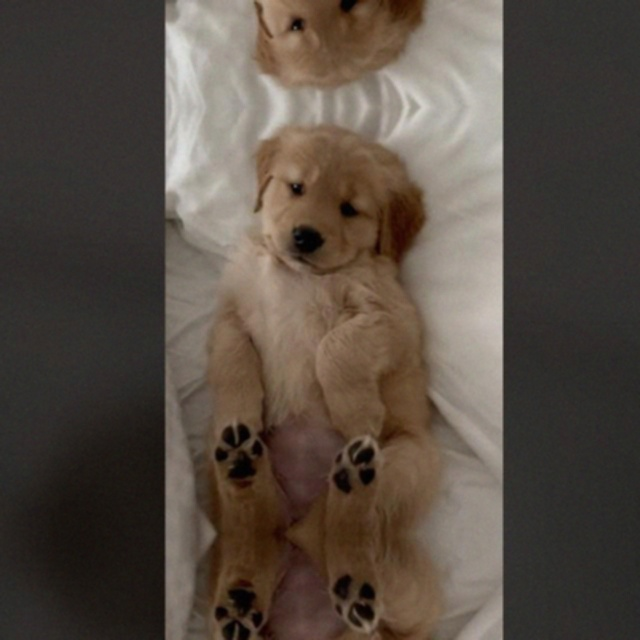dog: (181, 121, 423, 533), (181, 532, 424, 640), (181, 0, 424, 91)
